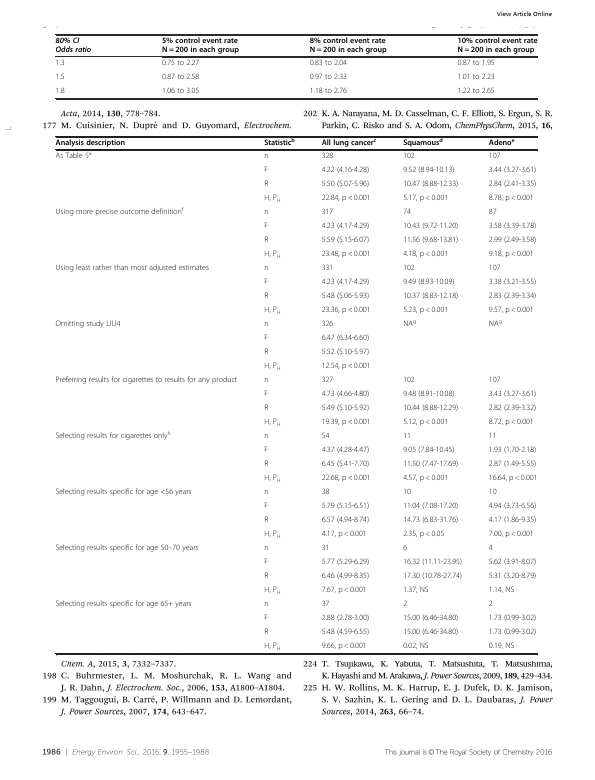borderless: (54, 135, 537, 653), (54, 33, 537, 98)
cell: (55, 376, 238, 386), (55, 264, 210, 274), (55, 206, 184, 218), (457, 37, 538, 55), (55, 544, 199, 554), (161, 37, 240, 55), (309, 37, 388, 55), (55, 430, 172, 442), (55, 488, 192, 498), (55, 600, 192, 610), (55, 320, 121, 330), (55, 139, 126, 148), (55, 37, 92, 54), (321, 137, 377, 148), (402, 558, 463, 568), (402, 572, 463, 582), (402, 180, 459, 190), (402, 222, 459, 232), (402, 236, 459, 246), (402, 292, 459, 302), (402, 404, 459, 414), (402, 460, 459, 470), (402, 502, 459, 512), (402, 516, 459, 526), (402, 614, 459, 624), (402, 628, 459, 638), (402, 166, 455, 176), (402, 278, 455, 288), (402, 390, 455, 400), (402, 446, 455, 456), (321, 194, 371, 204), (321, 250, 371, 260), (321, 306, 371, 316), (321, 362, 371, 372), (321, 418, 371, 428), (321, 474, 371, 484), (488, 474, 538, 484), (321, 166, 370, 176), (488, 166, 537, 176), (321, 180, 370, 190), (488, 180, 537, 190), (321, 222, 370, 232), (488, 222, 537, 232), (321, 236, 370, 246), (488, 236, 537, 246), (321, 278, 370, 288), (488, 278, 537, 288), (321, 292, 370, 302), (488, 292, 537, 302), (321, 334, 370, 344), (321, 348, 370, 358), (321, 390, 370, 400), (488, 390, 537, 400), (321, 404, 370, 414), (488, 404, 537, 414), (321, 446, 370, 456), (488, 446, 537, 456), (321, 460, 370, 470), (488, 460, 537, 470), (321, 502, 370, 512), (488, 502, 537, 512), (321, 516, 370, 526), (488, 516, 537, 526), (321, 558, 370, 568), (488, 558, 537, 568), (321, 572, 370, 582), (488, 572, 537, 582), (321, 614, 370, 624), (488, 614, 537, 624), (321, 628, 370, 638), (488, 628, 537, 638), (402, 194, 449, 204), (488, 194, 535, 204), (402, 250, 449, 260), (488, 250, 535, 260), (402, 306, 449, 316), (488, 306, 535, 316), (402, 418, 449, 428), (488, 418, 535, 428), (402, 474, 449, 484), (321, 530, 368, 540), (488, 530, 535, 540), (321, 586, 368, 596), (321, 642, 368, 652), (402, 137, 444, 148), (55, 150, 92, 162), (402, 530, 445, 540), (263, 137, 296, 148), (488, 137, 515, 148), (161, 60, 200, 67), (309, 60, 348, 67), (457, 60, 496, 67), (161, 74, 200, 81), (309, 74, 348, 81), (457, 74, 496, 81), (161, 88, 200, 95), (309, 88, 348, 95), (457, 88, 496, 95), (402, 586, 429, 596), (488, 586, 515, 596), (402, 642, 429, 652), (488, 642, 515, 652), (263, 194, 282, 204), (263, 250, 282, 260), (263, 306, 282, 316), (263, 362, 282, 372), (263, 418, 282, 428), (263, 474, 282, 484), (263, 530, 282, 540), (263, 586, 282, 596), (263, 642, 282, 652), (402, 318, 417, 330), (488, 318, 503, 330), (402, 152, 416, 162), (402, 264, 416, 274), (402, 376, 416, 386), (321, 152, 334, 162), (488, 152, 501, 162), (321, 208, 334, 218), (321, 264, 334, 274), (488, 264, 501, 274), (321, 320, 334, 330), (321, 376, 334, 386), (488, 376, 501, 386), (402, 208, 412, 218), (402, 432, 412, 442), (402, 488, 412, 498), (488, 208, 497, 218), (321, 432, 330, 442), (488, 432, 497, 442), (321, 488, 330, 498), (488, 488, 497, 498), (321, 544, 330, 554), (321, 600, 330, 610), (55, 60, 65, 67), (55, 74, 65, 81), (55, 88, 65, 95), (263, 152, 269, 162), (263, 166, 269, 176), (263, 180, 269, 190), (263, 208, 269, 218), (263, 222, 269, 232), (263, 236, 269, 246), (263, 264, 269, 274), (263, 278, 269, 288), (263, 292, 269, 302), (263, 320, 269, 330), (263, 334, 269, 344), (263, 348, 269, 358), (263, 376, 269, 386), (263, 390, 269, 400), (263, 404, 269, 414), (263, 432, 269, 442), (263, 446, 269, 456), (263, 460, 269, 470), (263, 488, 269, 498), (263, 502, 269, 512), (263, 516, 269, 526), (263, 544, 269, 554), (402, 544, 408, 554), (488, 544, 494, 554), (263, 558, 269, 568), (263, 572, 269, 582), (263, 600, 269, 610), (402, 600, 408, 610), (488, 600, 494, 610), (263, 614, 269, 624), (263, 628, 269, 638)
